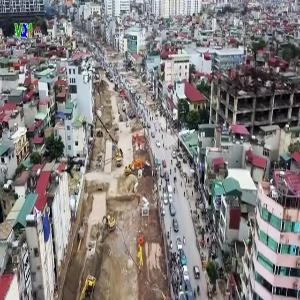drone: (49, 143, 98, 192)
